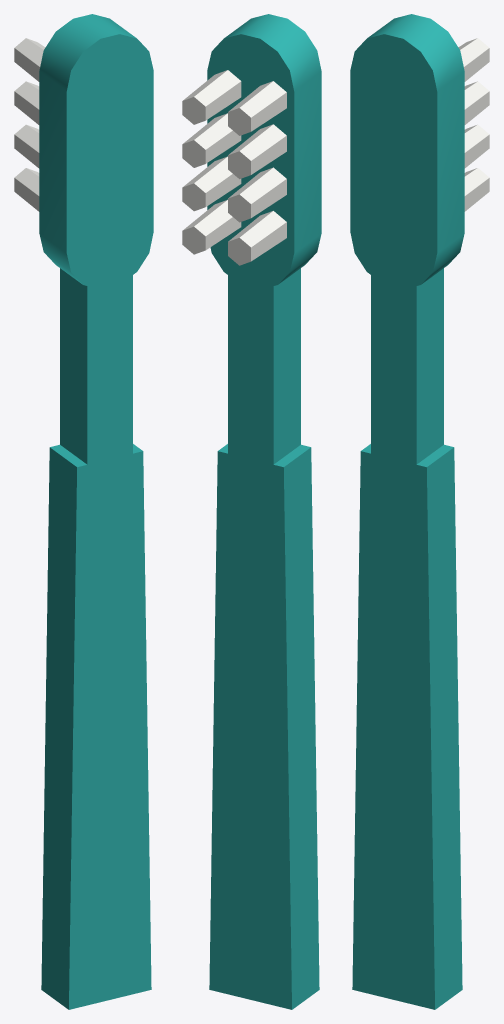
File: toothbrush.glb
The picture shows the model from 3 angles, left to right: view 1: azimuth 30°, elevation 25°; view 2: azimuth 150°, elevation 25°; view 3: azimuth 330°, elevation 25°; orthographic projection.
Visible parts, largest first — view 1: toothbrush; view 2: toothbrush; view 3: toothbrush.
Boxes of the visible parts, <box> form: toothbrush: <box>14,14,153,1009</box>; toothbrush: <box>182,14,321,1009</box>; toothbrush: <box>350,14,489,1009</box>.
Size of the model in its own units: 0.00849 by 0.09 by 0.0104.
